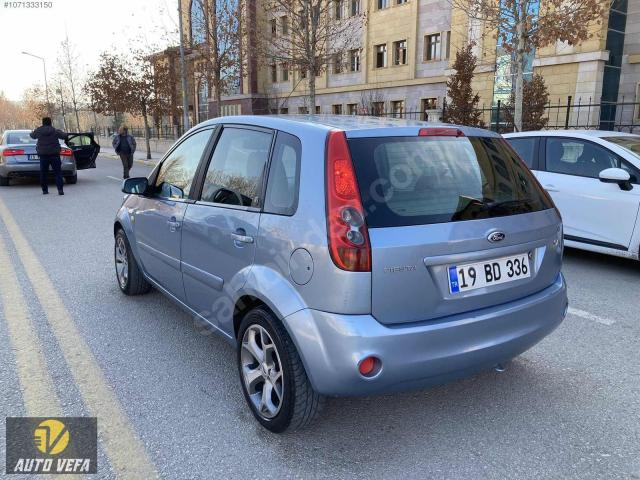plaka: (447, 254, 532, 294)
